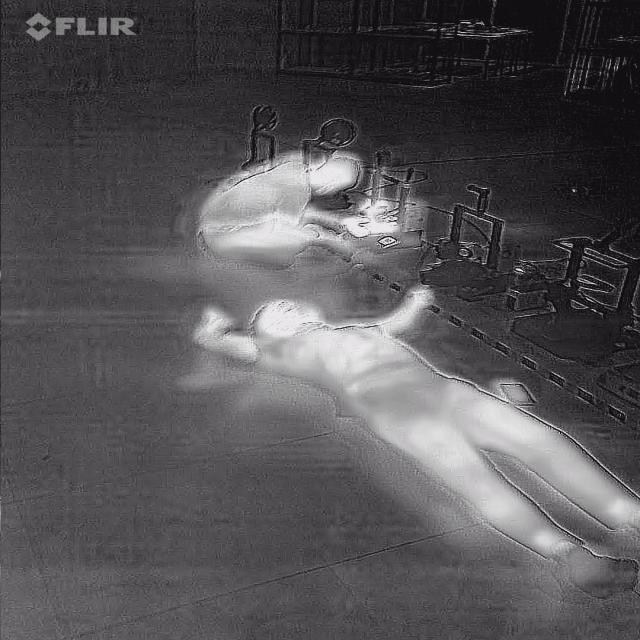Victim: (180, 281, 638, 607), (192, 146, 374, 270)
